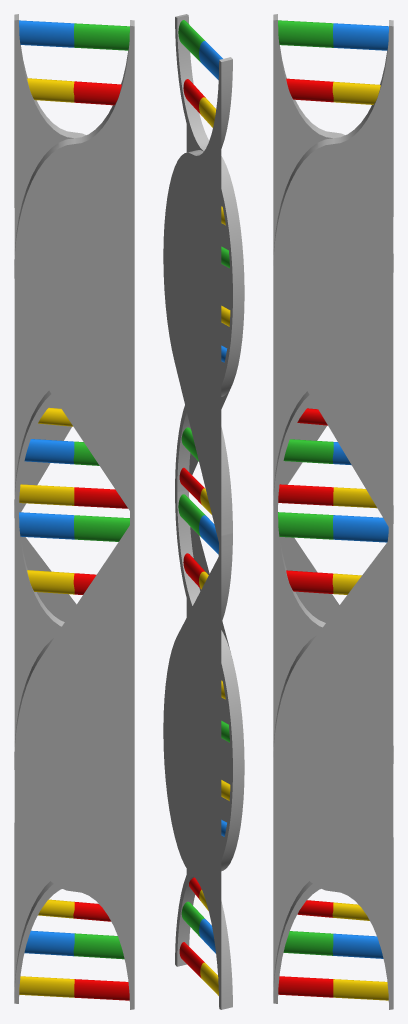
Rendered from Human DNA.fbx.
The picture shows the model from 3 angles, left to right: view 1: azimuth 90°, elevation 25°; view 2: azimuth 210°, elevation 25°; view 3: azimuth 270°, elevation 25°; orthographic projection. The views are drawn at different scales.
Parts seen in each view (by area): view 1: Group5, Group4, Group2, Group1, Group3; view 2: Group5, Group1, Group3, Group4, Group2; view 3: Group5, Group1, Group3, Group2, Group4.
Boxes of the visible parts, box(x1,y1,x2,y2) form: Group5: box(14, 14, 134, 1009); Group4: box(19, 78, 74, 997); Group2: box(19, 20, 74, 956); Group1: box(73, 23, 129, 959); Group3: box(73, 81, 129, 1000); Group5: box(163, 14, 244, 1009); Group1: box(178, 20, 229, 937); Group3: box(179, 79, 205, 978); Group4: box(199, 97, 230, 995); Group2: box(199, 41, 227, 953); Group5: box(273, 14, 393, 1009); Group1: box(278, 20, 333, 955); Group3: box(278, 78, 333, 997); Group2: box(332, 23, 388, 958); Group4: box(332, 81, 388, 1000).
Bounding box in the file's own units: 0.6 × 23.45 × 2.6.
